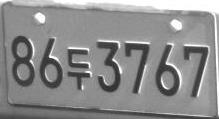3: (95, 40, 122, 93)
6: (155, 43, 181, 97), (38, 37, 64, 89)
7: (182, 44, 209, 97), (124, 42, 150, 94)
8: (10, 34, 36, 87)
두: (67, 47, 90, 90)
